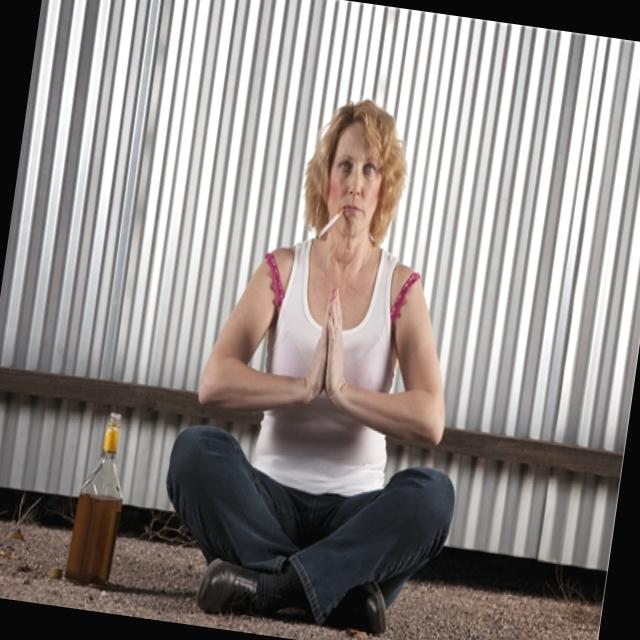smoke: (314, 202, 343, 250)
